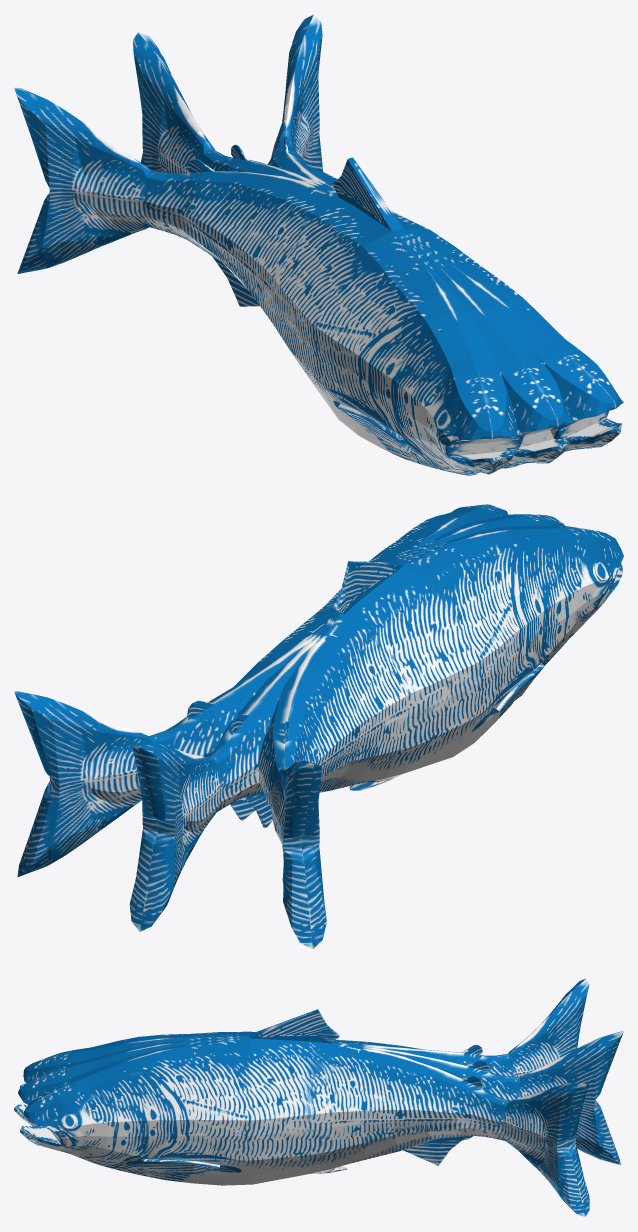
Rendered from Salmon.obj.
3 renders of one model, top to bottom at view 1: azimuth 30°, elevation 25°; view 2: azimuth 150°, elevation 25°; view 3: azimuth 270°, elevation 25°, orthographic. The views are drawn at different scales.
Parts seen in each view (by area): view 1: Salmon polySurface5, Salmon polySurface3, Salmon polySurface4, polySurface1 Salmon; view 2: Salmon polySurface5, Salmon polySurface3, polySurface1 Salmon, Salmon polySurface4; view 3: Salmon polySurface4, polySurface1 Salmon, Salmon polySurface3, Salmon polySurface5.
Boxes of the visible parts, x1,y1,x2,y2 form: Salmon polySurface5: (277,157,525,475); Salmon polySurface3: (14,87,350,329); Salmon polySurface4: (133,32,623,451); polySurface1 Salmon: (267,14,573,468); Salmon polySurface5: (346,525,623,784); Salmon polySurface3: (258,564,408,949); polySurface1 Salmon: (14,514,564,877); Salmon polySurface4: (129,504,508,931); Salmon polySurface4: (20,1010,623,1185); polySurface1 Salmon: (14,1010,589,1217); Salmon polySurface3: (318,978,589,1173); Salmon polySurface5: (20,1009,317,1087).
Bounding box in the file's own units: 3.9 × 2.77 × 9.39.
